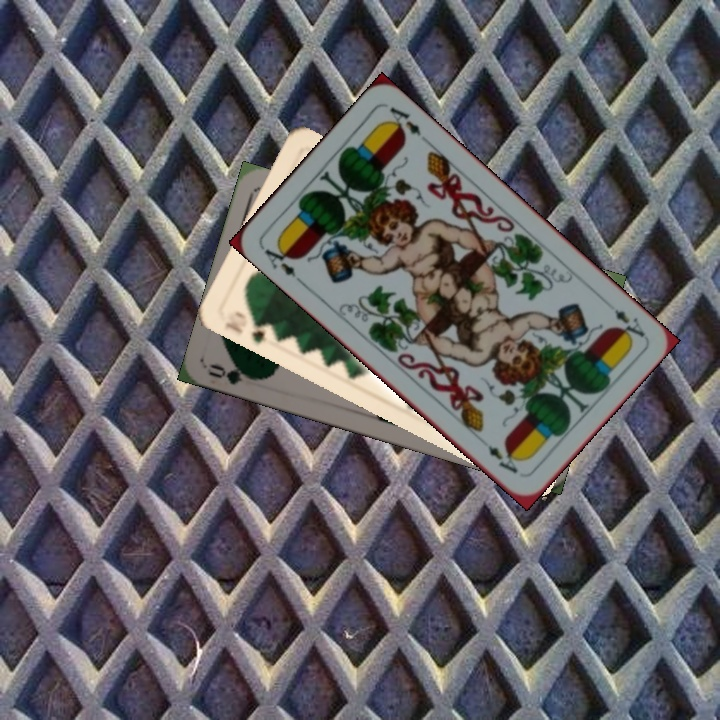EA: (258, 239, 298, 280), (609, 305, 648, 344)
G10: (220, 307, 268, 346)
GO: (205, 358, 265, 388)
